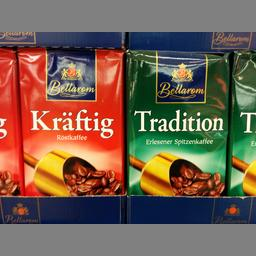coffee: (16, 46, 126, 194), (124, 48, 228, 193)
